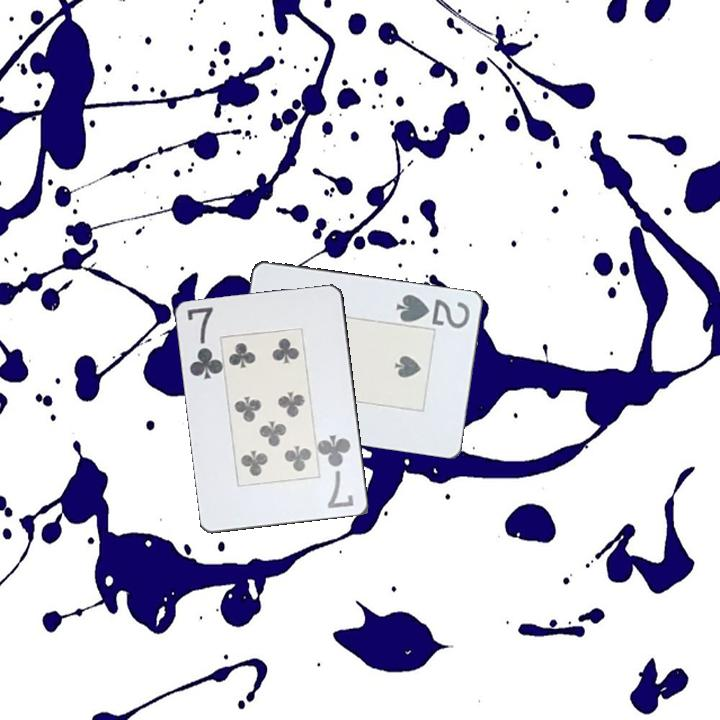2s: (393, 290, 473, 331)
7c: (184, 303, 224, 383), (318, 432, 357, 512)
